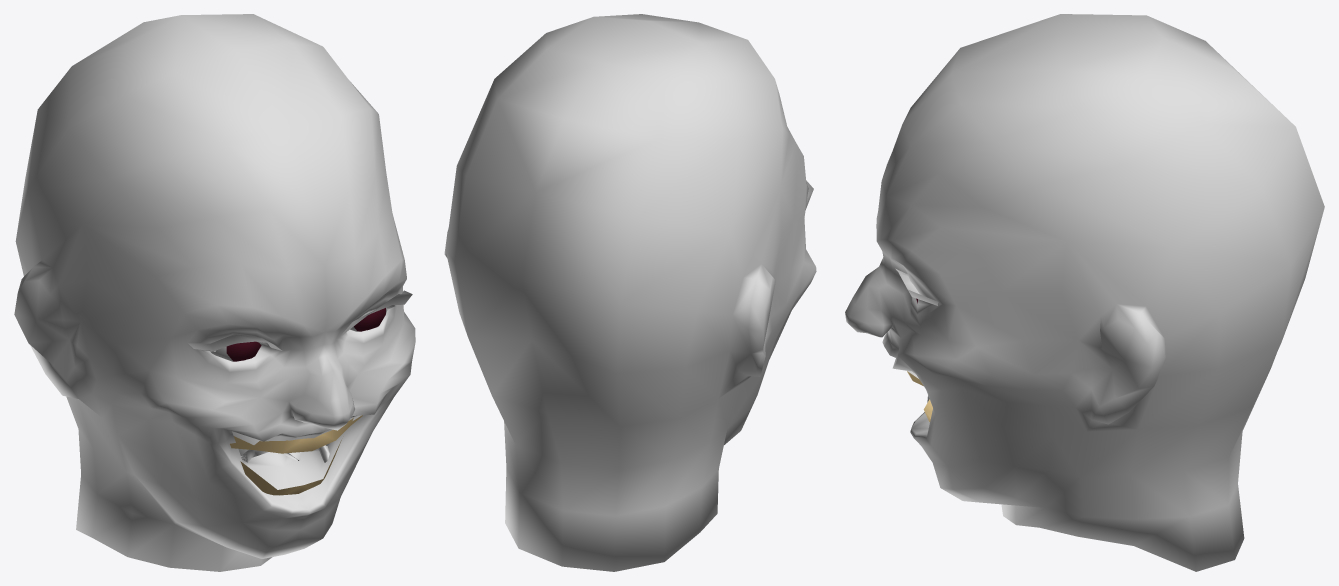
The model's file is body8.fbx.
3 views of the same model, side by side, from view 1: azimuth 30°, elevation 25°; view 2: azimuth 150°, elevation 25°; view 3: azimuth 270°, elevation 25° (orthographic). The views are drawn at different scales.
Parts seen in each view (by area): view 1: head.002; view 2: head.002; view 3: head.002.
Part boxes in pixels (<box>): head.002: <box>14,14,415,571</box>; head.002: <box>444,14,816,571</box>; head.002: <box>845,14,1324,571</box>.
Size of the model in its own units: 17.41 by 25 by 21.5.
